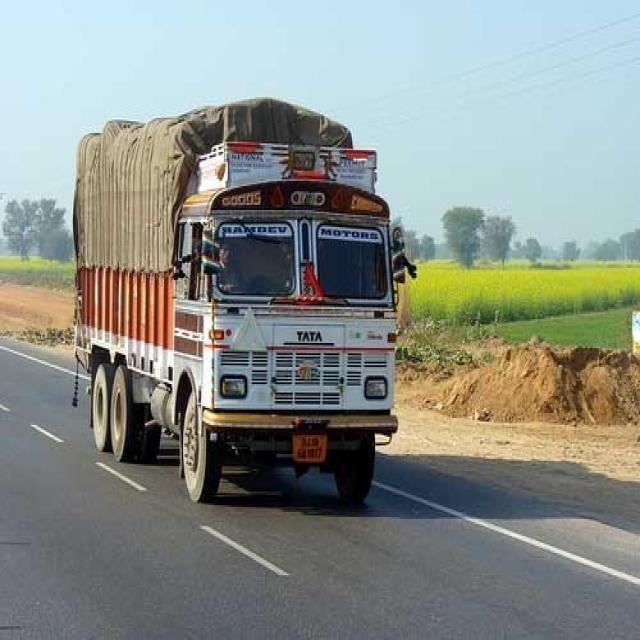normal_truck: (74, 100, 406, 504)
